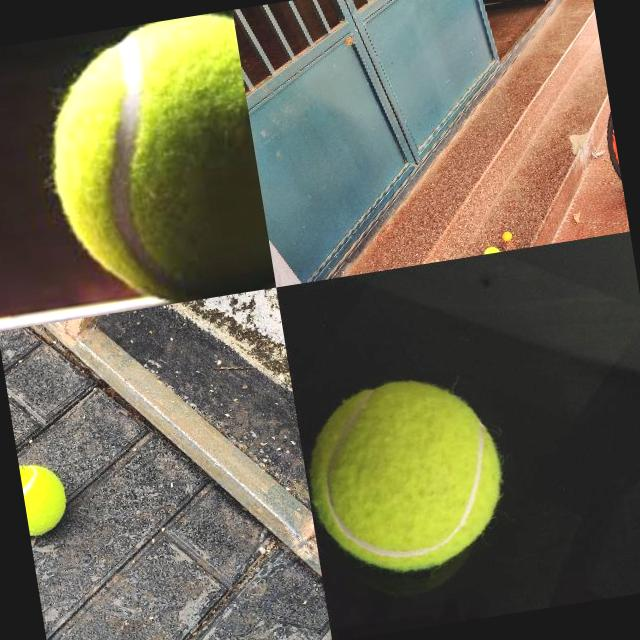Tennis Ball: (30, 9, 276, 318), (296, 366, 516, 586), (20, 458, 74, 537), (482, 244, 502, 253)
